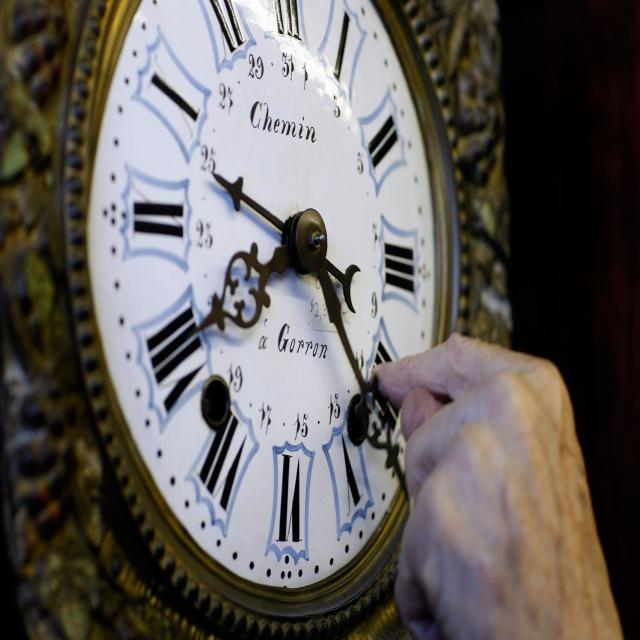clock: (62, 0, 504, 547)
